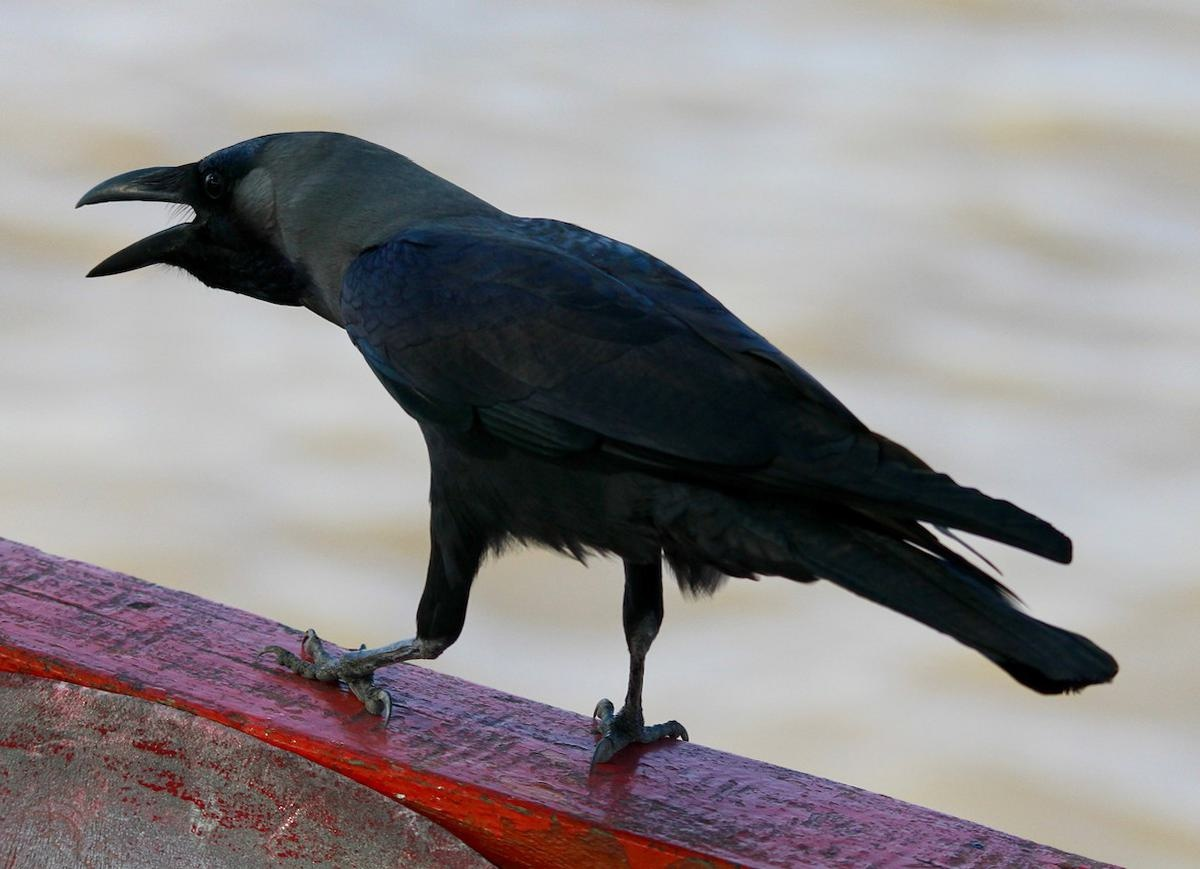crow: (100, 115, 1196, 791)
